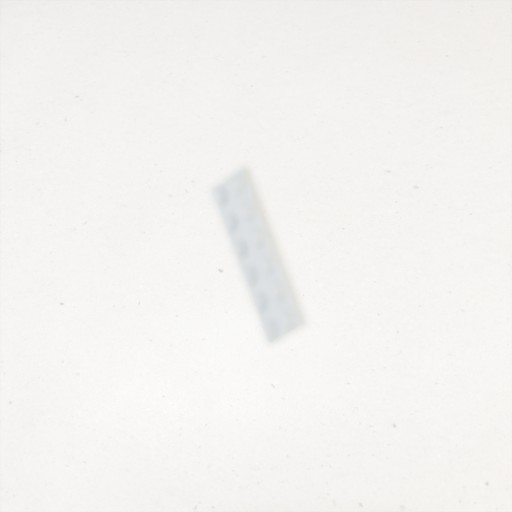lego: (208, 164, 310, 347)
